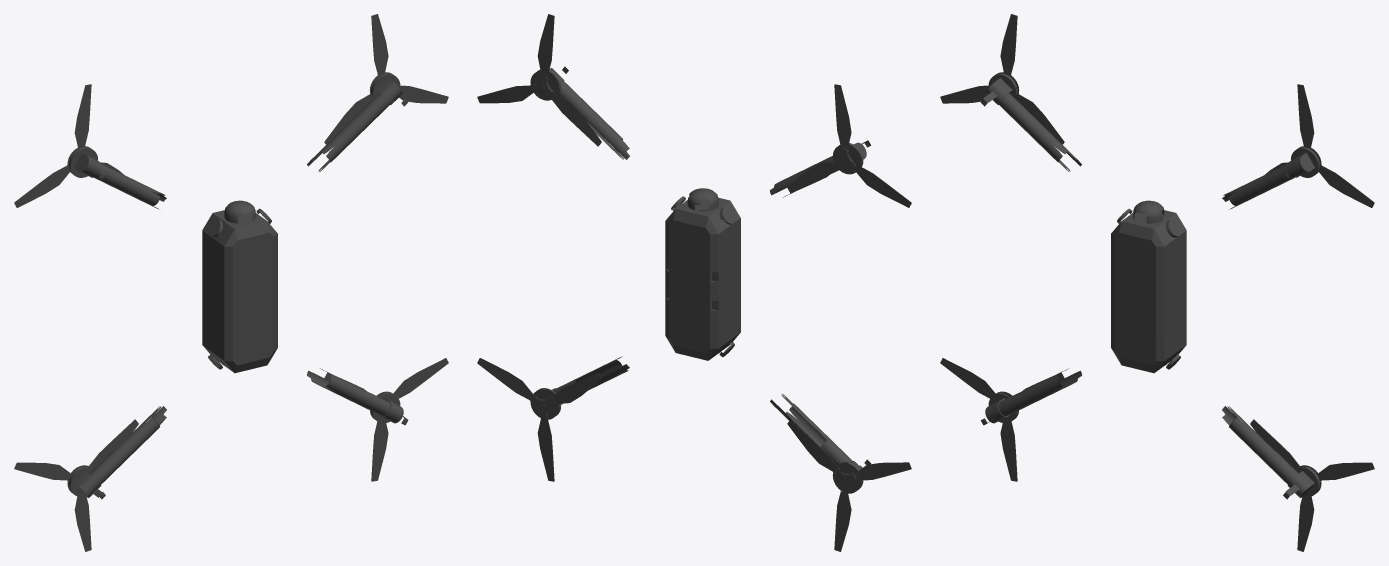
File: Combat Quadcopter Drone.fbx
3 renders of one model, left to right at view 1: azimuth 30°, elevation 25°; view 2: azimuth 150°, elevation 25°; view 3: azimuth 330°, elevation 25°, orthographic.
Visible parts, largest first — view 1: Body; view 2: Body; view 3: Body.
Part boxes in pixels (x1,y1,x2,y2): Body: (14, 14, 448, 551); Body: (477, 14, 911, 551); Body: (940, 14, 1374, 551).
Bounding box in the file's own units: 158 × 162 × 17.18.
7 materials, 7 textured.
